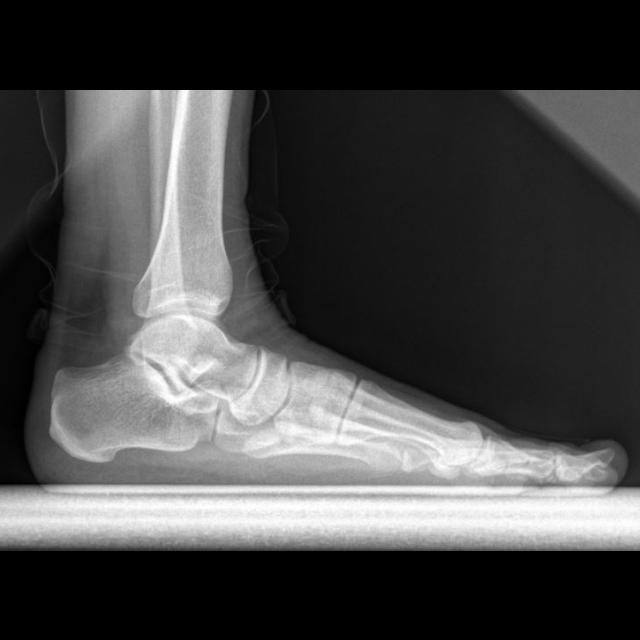a: (50, 348, 219, 462)
b: (229, 346, 289, 426)
c: (339, 378, 483, 484)
